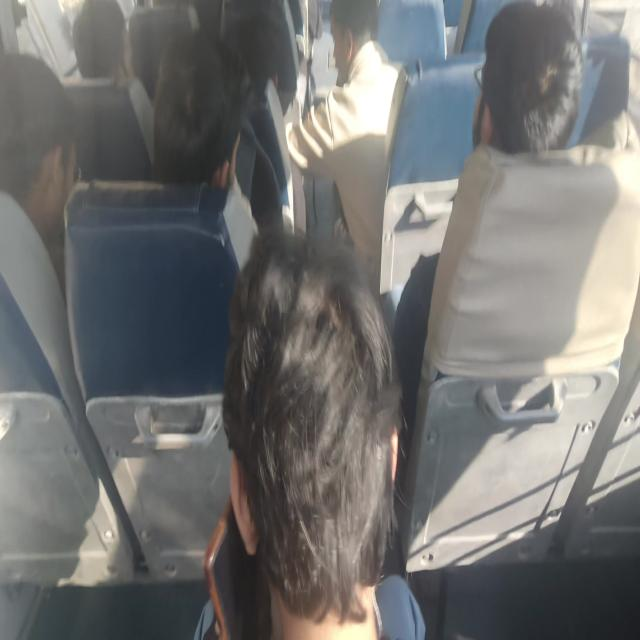person: (246, 212, 441, 640), (139, 63, 265, 221), (476, 41, 605, 193), (0, 62, 86, 234), (328, 0, 432, 116), (232, 8, 320, 127), (61, 0, 151, 102)
